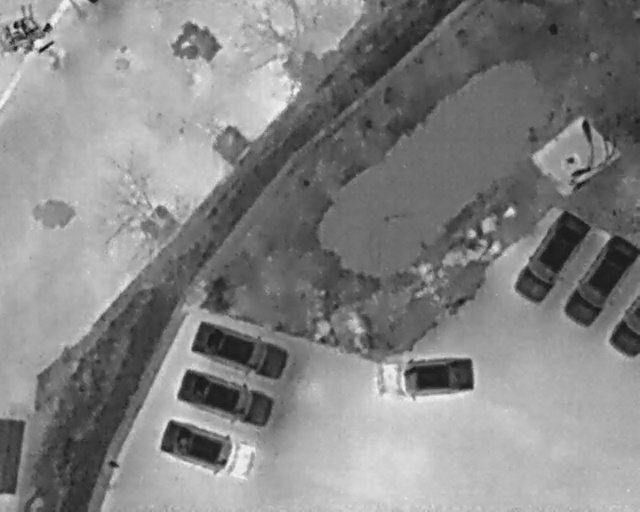Car: (507, 203, 597, 312), (557, 230, 639, 333), (154, 412, 265, 486), (185, 313, 294, 385), (171, 362, 280, 434), (369, 352, 478, 403), (607, 293, 639, 359)
